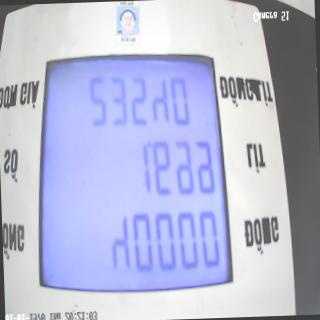screen: (28, 43, 239, 315)
